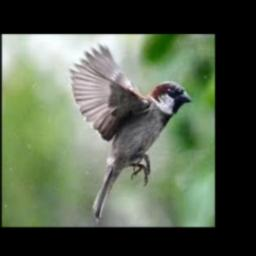Sparrow: (69, 43, 191, 221)
